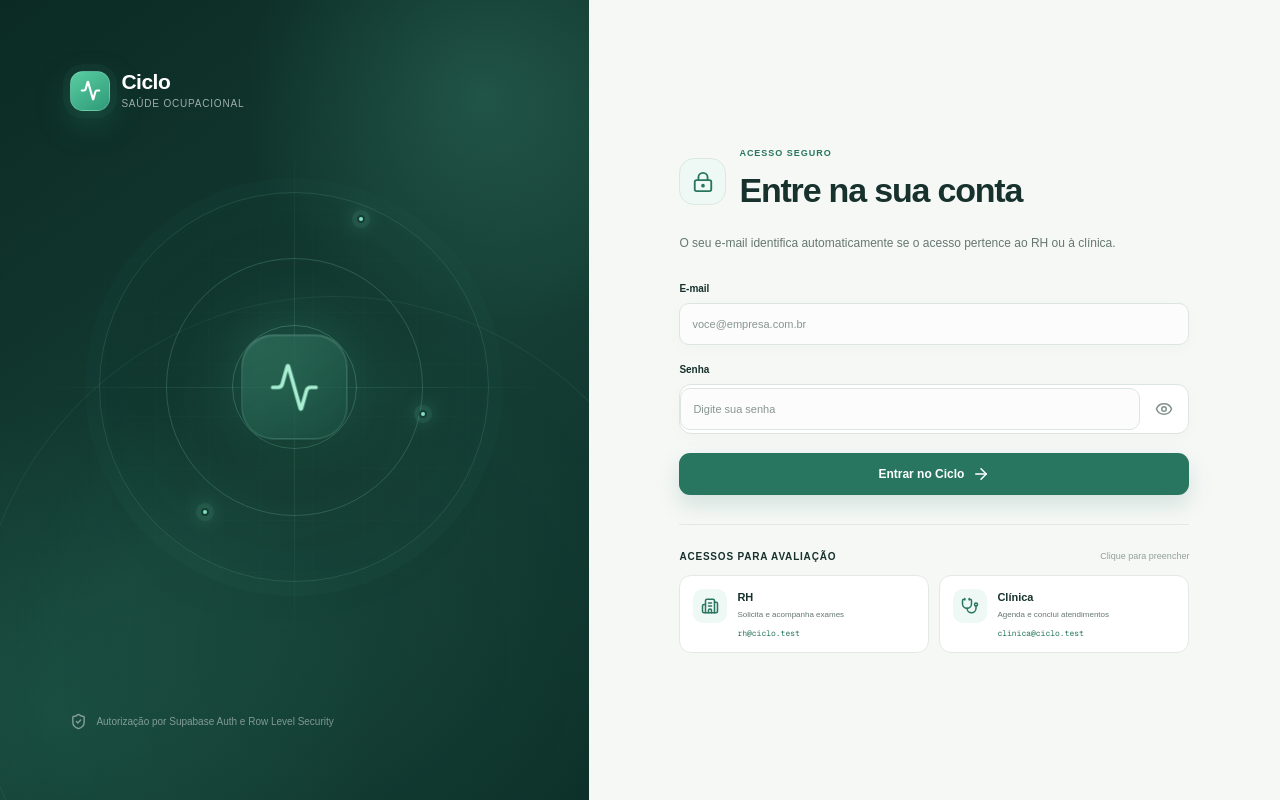
Tela de login › preenche a credencial de RH para facilitar a avaliação
The image size is (1280, 800).
Step 1. Click the button "RH Solicita e acompanha exames rh@ciclo.test" → (804, 614), box [679,575,929,653]
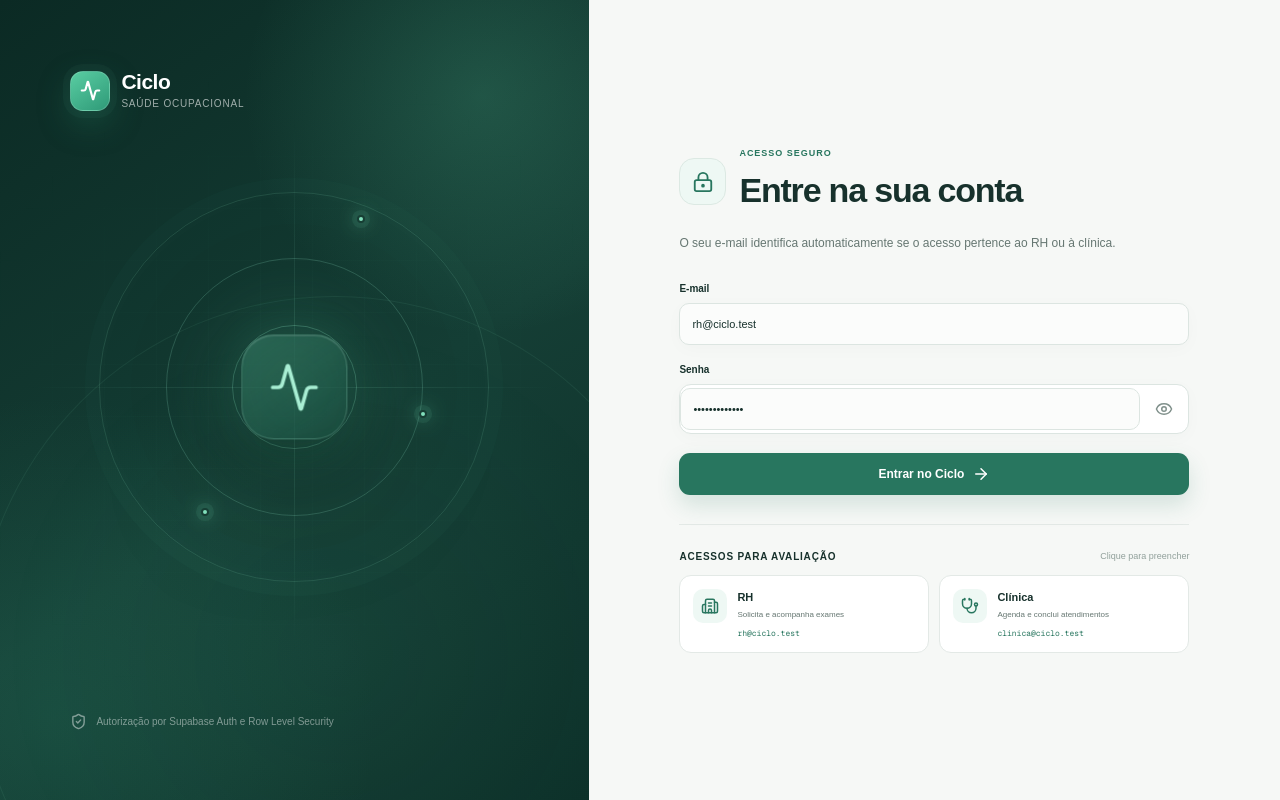
expect the field labelled "E-mail" holds "rh@ciclo.test": met, box [679,303,1189,345]
expect the password field labelled "Senha" holds "CicloRH#2026!": met, box [680,388,1140,430]
